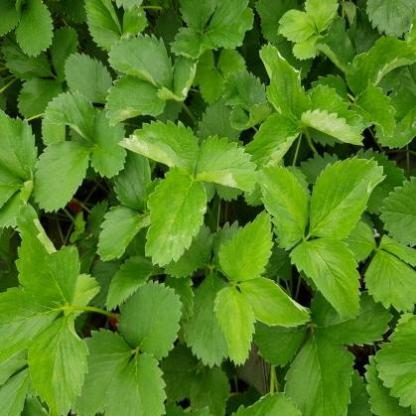Strawberry_Powdery_Mildew_Leaf: (144, 166, 208, 268), (116, 118, 198, 180), (256, 41, 312, 128), (300, 82, 365, 145), (193, 134, 259, 192), (238, 276, 312, 327), (156, 54, 200, 103)
